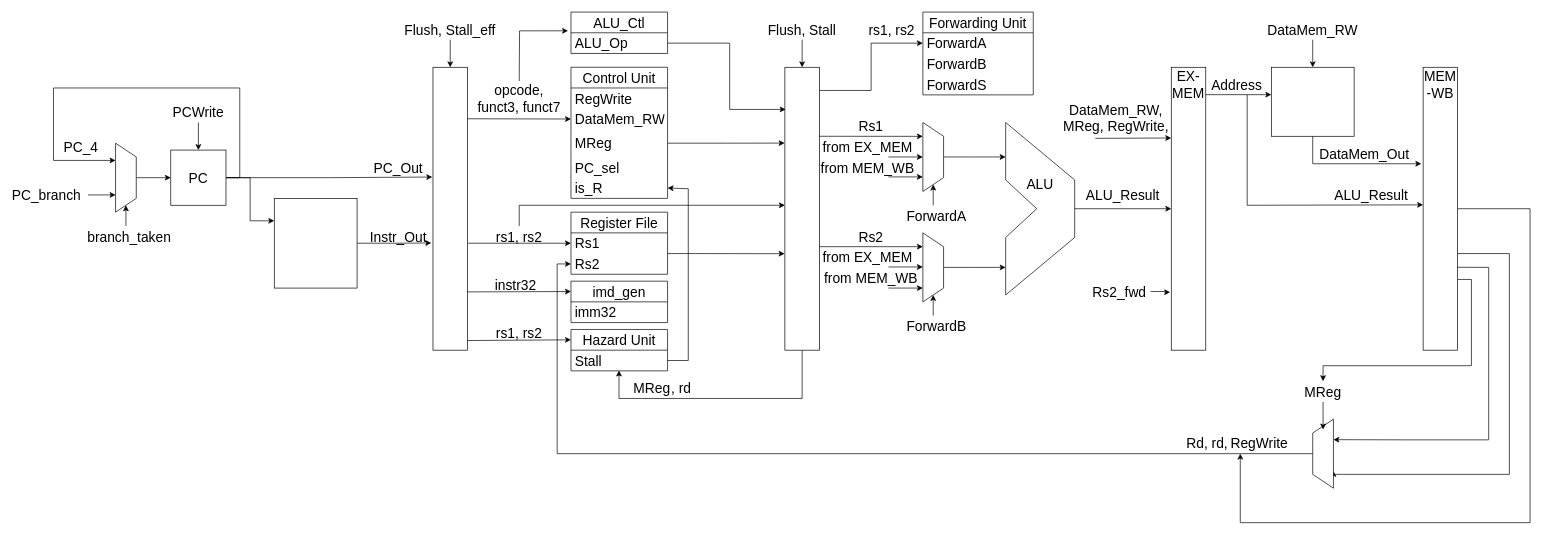
Some shapes in this 1548 by 540 pixel diagram are drawn without their labels. Each missing label, with the centre of its shape:
Data Memory: pixel 1312 101
ID- EX: pixel 801 208
IF- ID: pixel 449 208
Instruction Memory: pixel 315 243
